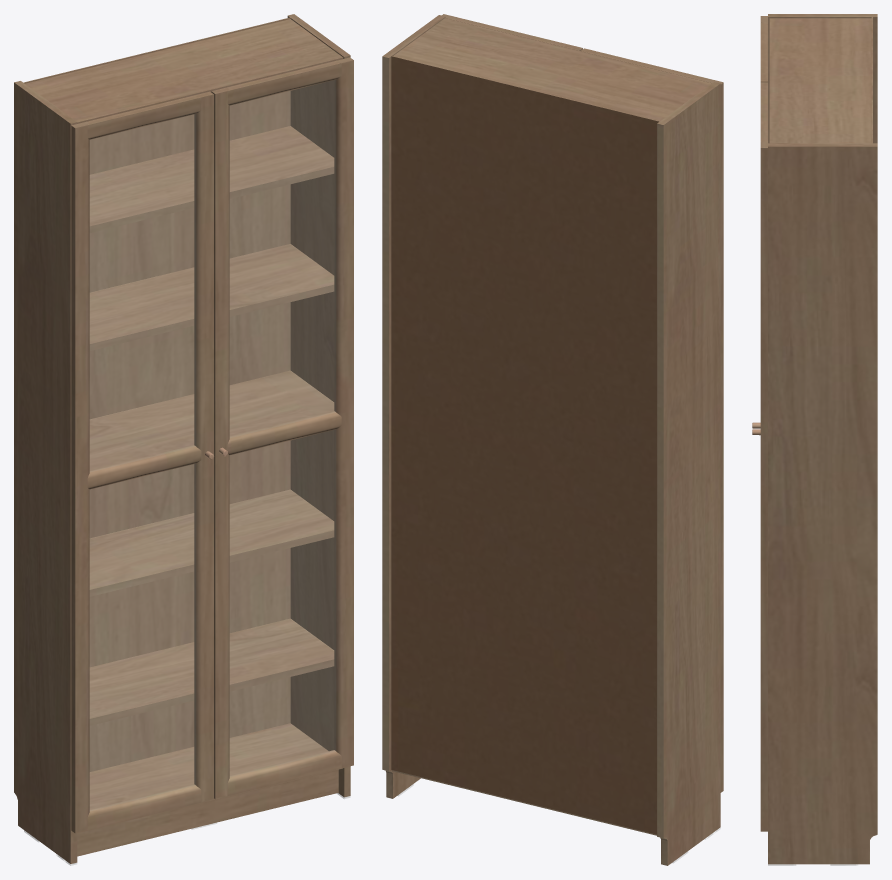
File: 34 - BILLY OXBERG Bookcase with glass doors - oak effect 80x30x202 cm.glb
3 views of the same model, side by side, from view 1: azimuth 30°, elevation 25°; view 2: azimuth 150°, elevation 25°; view 3: azimuth 270°, elevation 25° (orthographic). The views are drawn at different scales.
Visible parts, largest first — view 1: Mesh_0; view 2: Mesh_0; view 3: Mesh_0.
Boxes of the visible parts, left/top/right/bottom form: Mesh_0: left=14, top=14, right=353, bottom=863; Mesh_0: left=382, top=14, right=723, bottom=865; Mesh_0: left=752, top=14, right=877, bottom=864.
Bounding box in the file's own units: 0.8 × 2.02 × 0.32.
2 materials, 2 textured.
